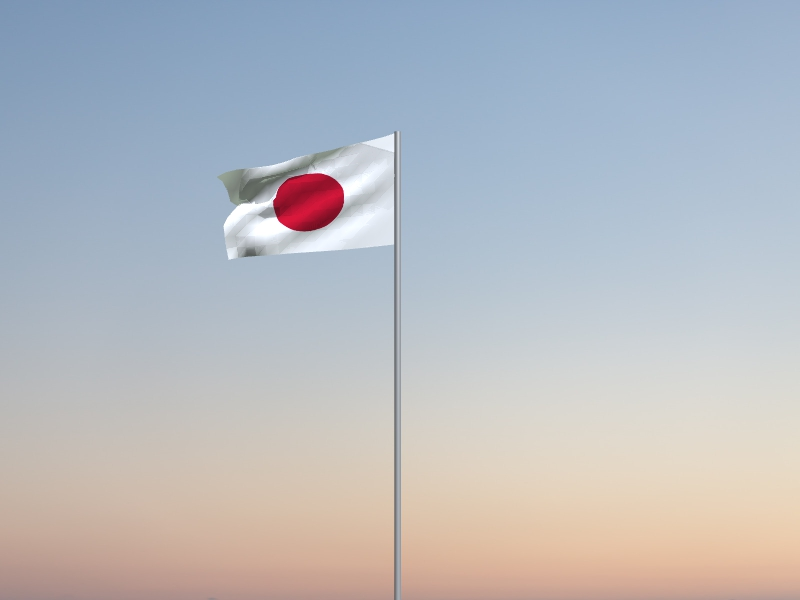jp: (217, 134, 394, 262)
